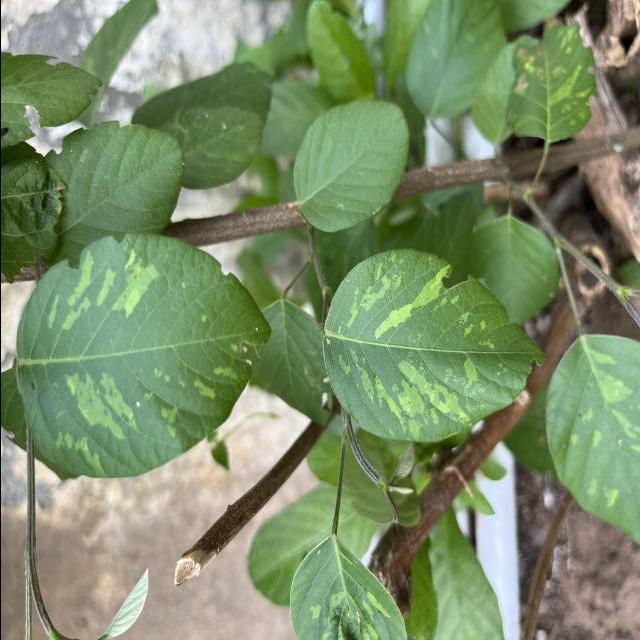Desmodium gangeticum: (8, 227, 276, 482), (316, 243, 552, 444)
